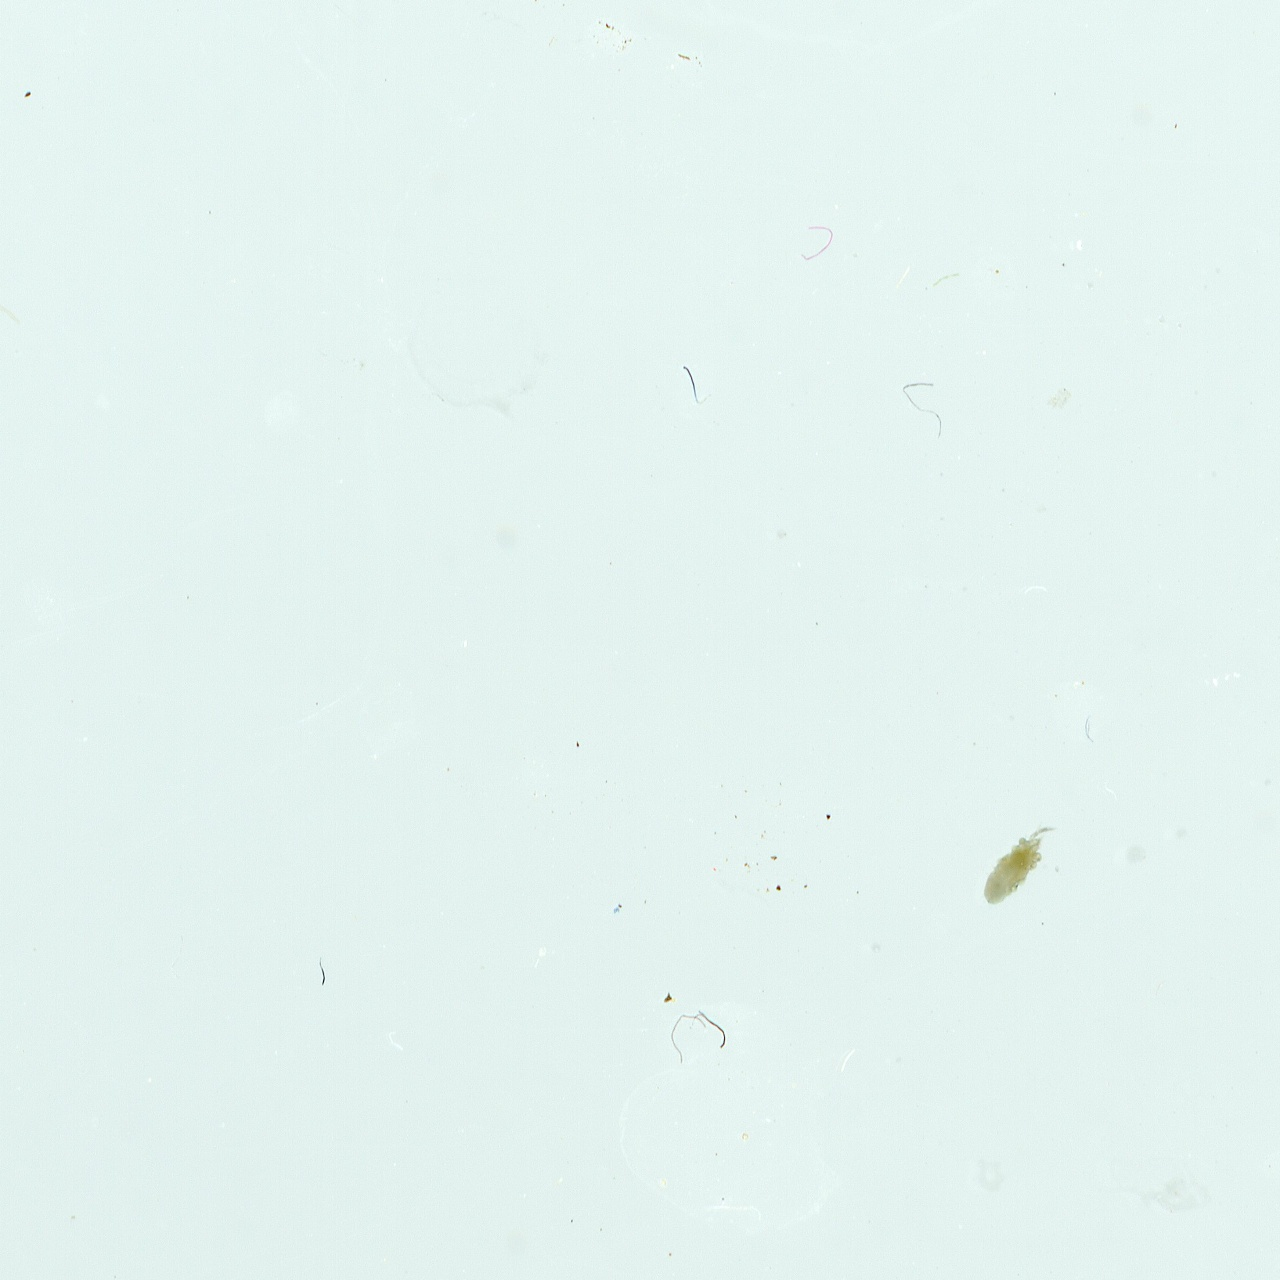arthropod: (968, 806, 1074, 921)
